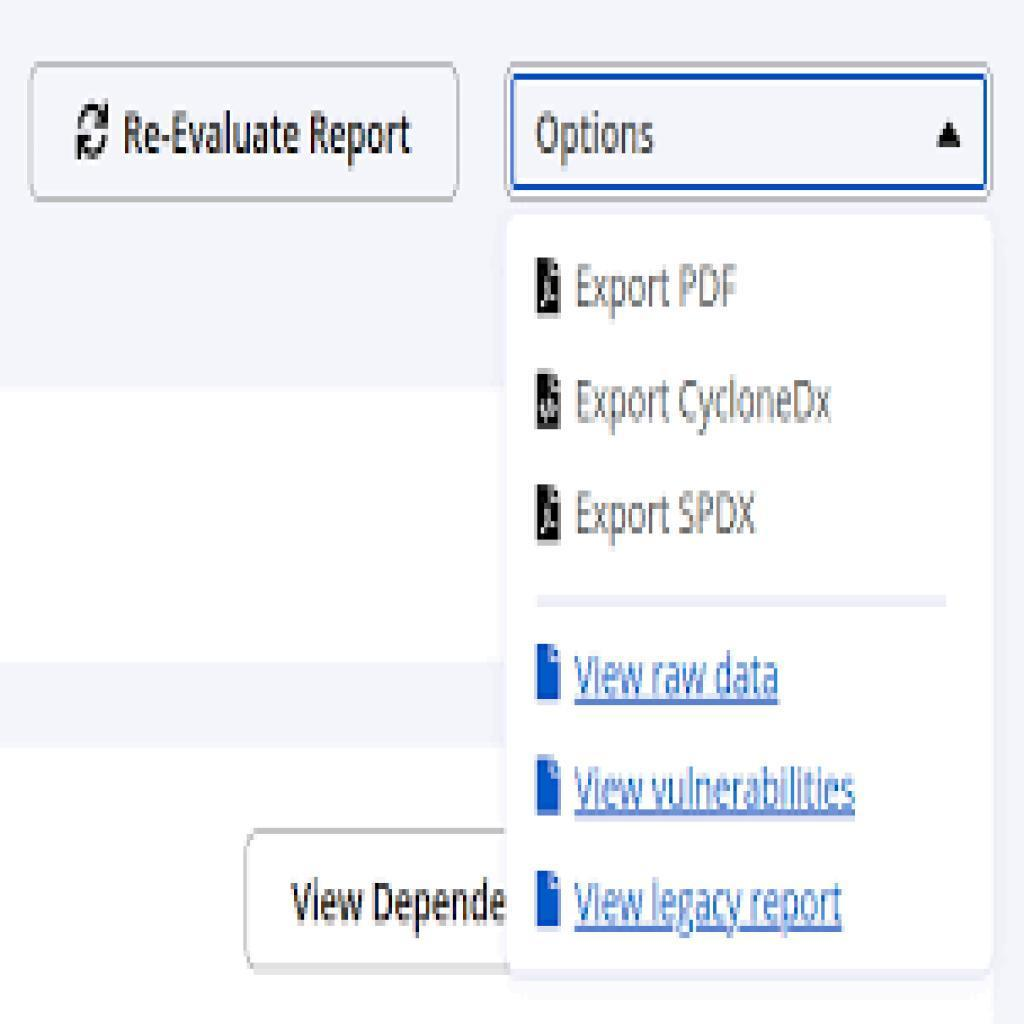button: (30, 62, 461, 205), (245, 827, 508, 975)
dropdown: (506, 64, 994, 202)
